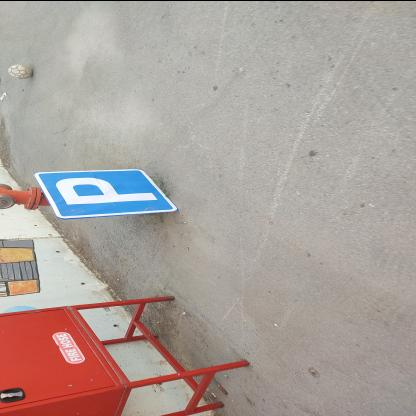Parking-Sign: (32, 168, 183, 221)
